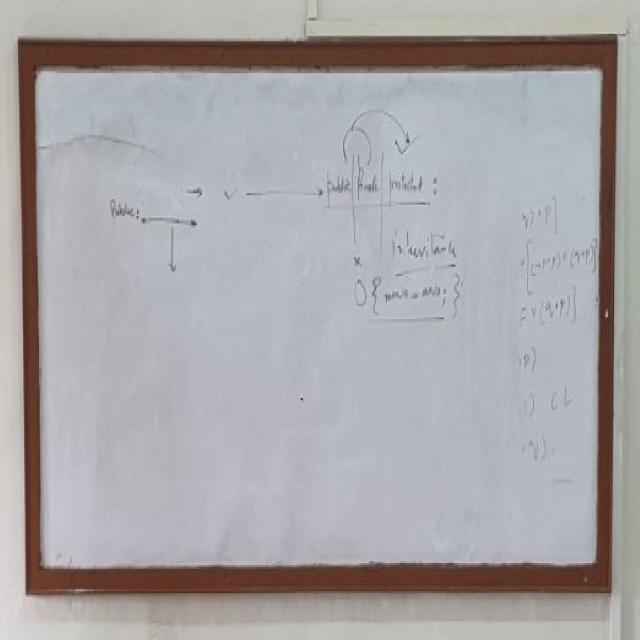White-board: (27, 58, 611, 576)
